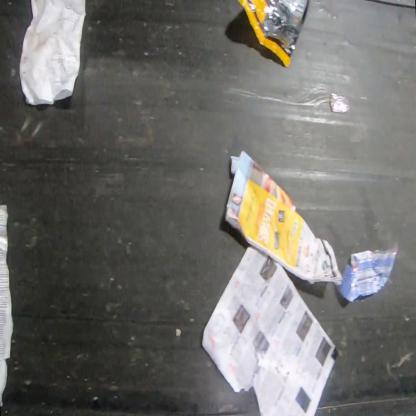cardboard: (223, 149, 343, 286)
soft_plastic: (238, 0, 309, 69), (336, 240, 398, 304)
